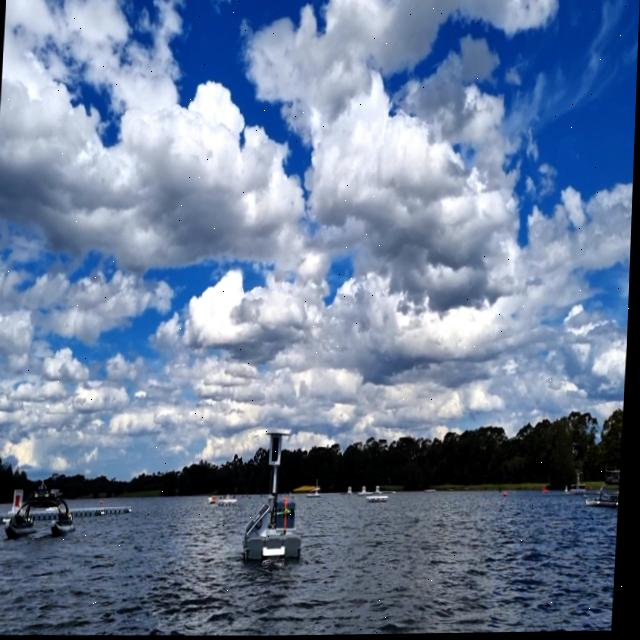led: (273, 435, 283, 464)
